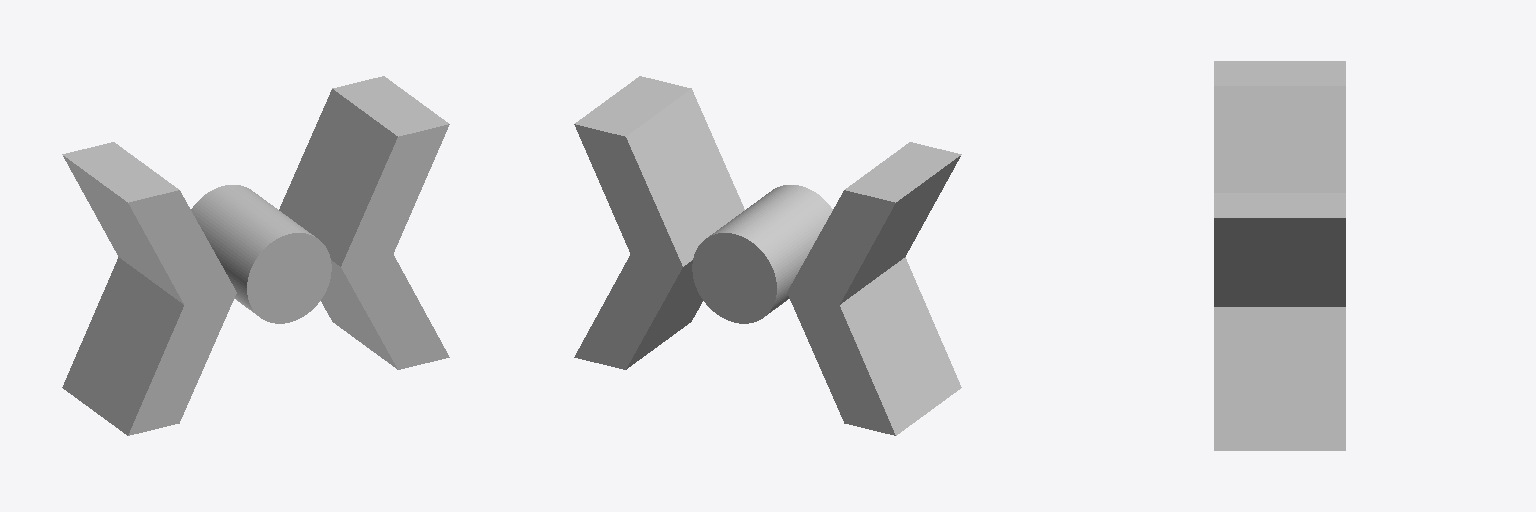
File: geoxor.obj
The picture shows the model from 3 angles: view 1: azimuth 30°, elevation 25°; view 2: azimuth 150°, elevation 25°; view 3: azimuth 270°, elevation 25°; orthographic projection.
Parts seen in each view (by area): view 1: path1165; view 2: path1165; view 3: path1165.
Part boxes in pixels (x1,y1,x2,y2): path1165: (62, 76, 449, 435); path1165: (574, 76, 961, 435); path1165: (1214, 61, 1345, 450).
Bounding box in the file's own units: 1.35 × 0.9381 × 0.48.